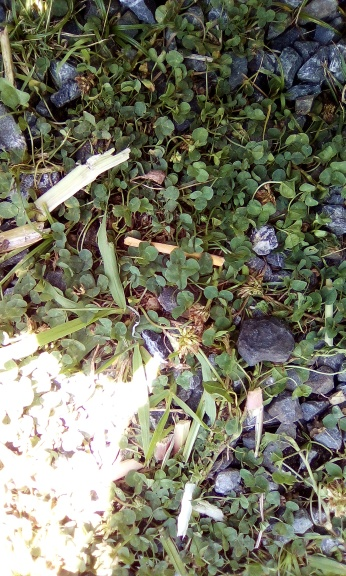4leaf: (163, 247, 201, 290)
